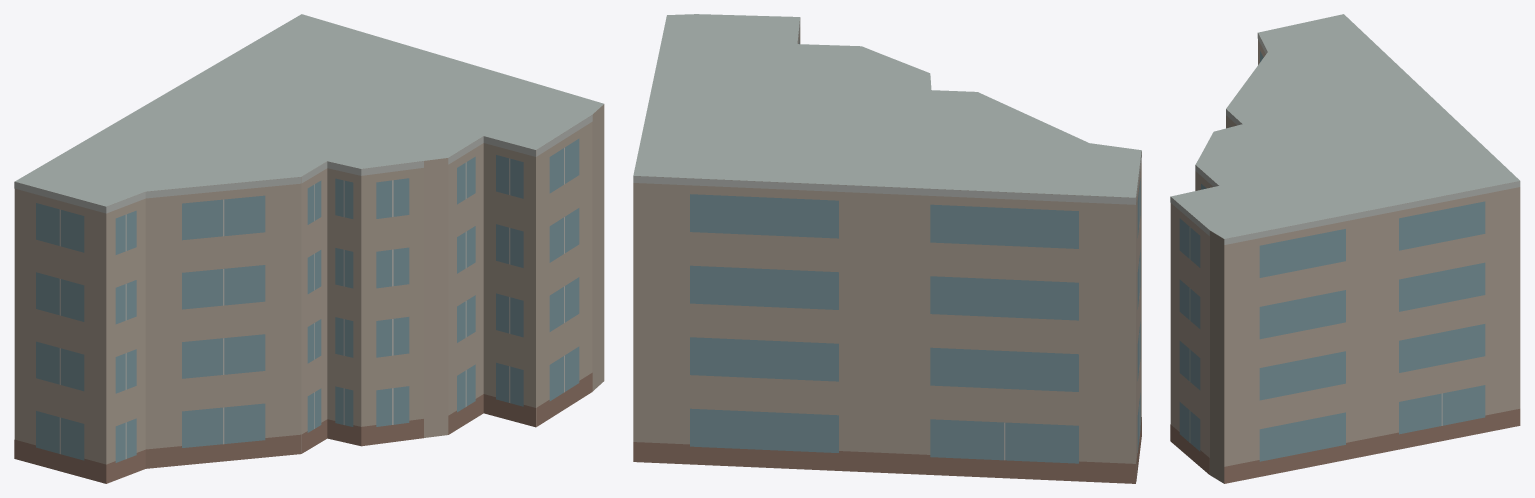
The model's file is survey-upis-32778805.glb.
3 views of the same model, side by side, from view 1: azimuth 30°, elevation 25°; view 2: azimuth 150°, elevation 25°; view 3: azimuth 270°, elevation 25° (orthographic). The views are drawn at different scales.
Parts seen in each view (by area): view 1: survey-upis-32778805.tmp; view 2: survey-upis-32778805.tmp; view 3: survey-upis-32778805.tmp.
Part boxes in pixels (box(x1,y1,x2,y2)): survey-upis-32778805.tmp: box(14, 14, 604, 483); survey-upis-32778805.tmp: box(633, 14, 1141, 483); survey-upis-32778805.tmp: box(1170, 14, 1520, 483).
Size of the model in its own units: 19.33 by 9.8 by 12.7.
